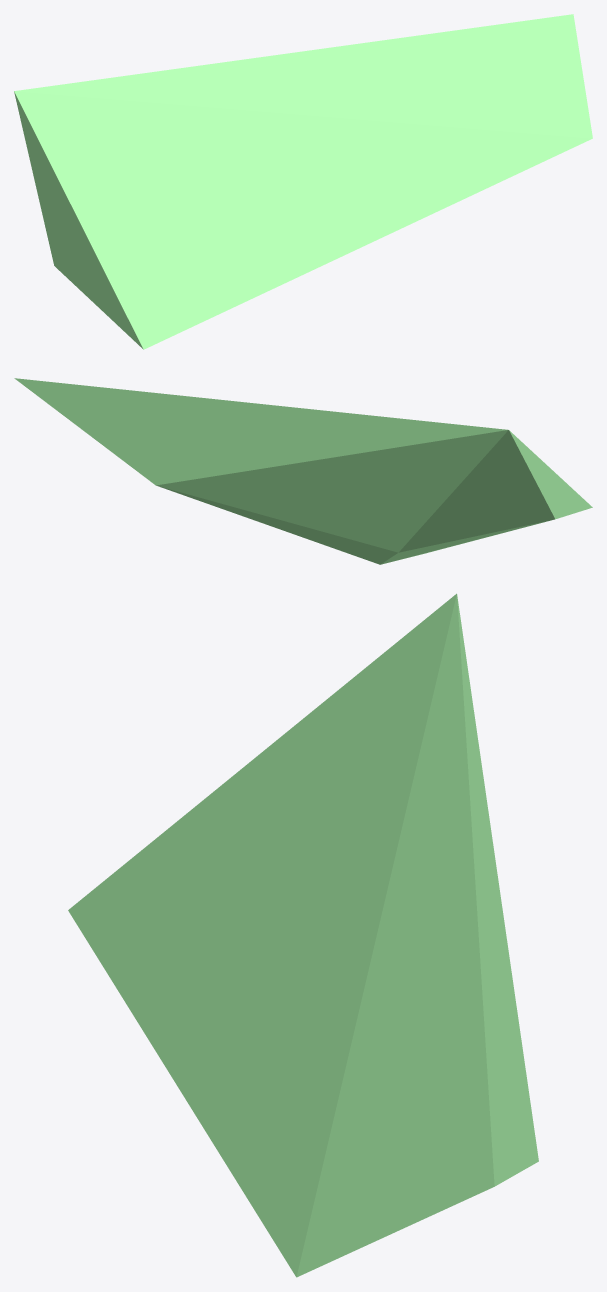
Rendered from linkhou_robot_base_coll_18.dae.
3 views of the same model, one above another, from view 1: azimuth 30°, elevation 25°; view 2: azimuth 150°, elevation 25°; view 3: azimuth 270°, elevation 25° (orthographic). The views are drawn at different scales.
Parts seen in each view (by area): view 1: Node_00000209DB3ACC00; view 2: Node_00000209DB3ACC00; view 3: Node_00000209DB3ACC00.
Boxes of the visible parts, x1,y1,x2,y2 form: Node_00000209DB3ACC00: (14,14,592,349); Node_00000209DB3ACC00: (14,378,592,564); Node_00000209DB3ACC00: (68,593,538,1277).
Size of the model in its own units: 0.086 by 0.0288 by 0.0357.
